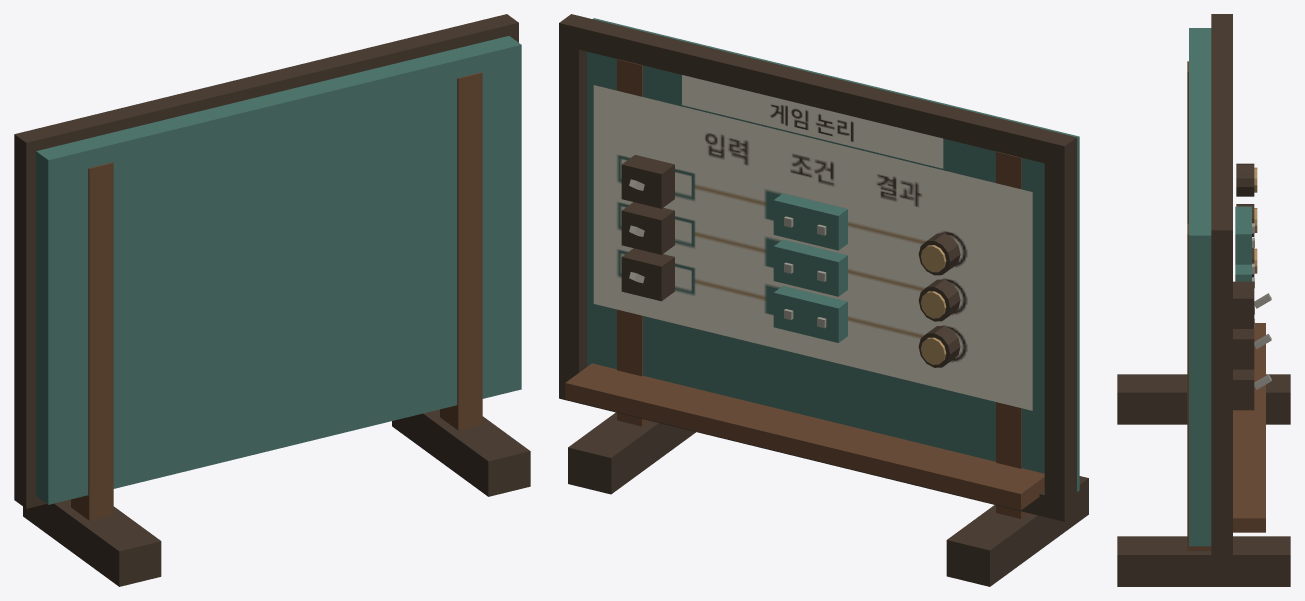
Rendered from T10_Game_Logic_Lab_Wall.fbx.
3 renders of one model, left to right at view 1: azimuth 30°, elevation 25°; view 2: azimuth 150°, elevation 25°; view 3: azimuth 270°, elevation 25°, orthographic. The views are drawn at different scales.
Parts seen in each view (by area): view 1: Structure; view 2: Structure, Logic_Panel, Logic_Modules, Title, Inputs, Outputs; view 3: Structure, Inputs, Logic_Modules, Outputs.
Boxes of the visible parts, x1,y1,x2,y2 form: Structure: (14,14,530,586); Structure: (559,14,1088,586); Logic_Panel: (593,85,1032,410); Logic_Modules: (773,193,847,342); Title: (682,75,943,168); Inputs: (621,155,674,301); Outputs: (918,233,960,367); Structure: (1117,14,1290,586); Inputs: (1233,281,1271,410); Logic_Modules: (1235,206,1254,328); Outputs: (1236,163,1257,277).
Size of the model in its own units: 3.1 by 2.5 by 1.05.
Materials: 6 (1 with a texture image).
